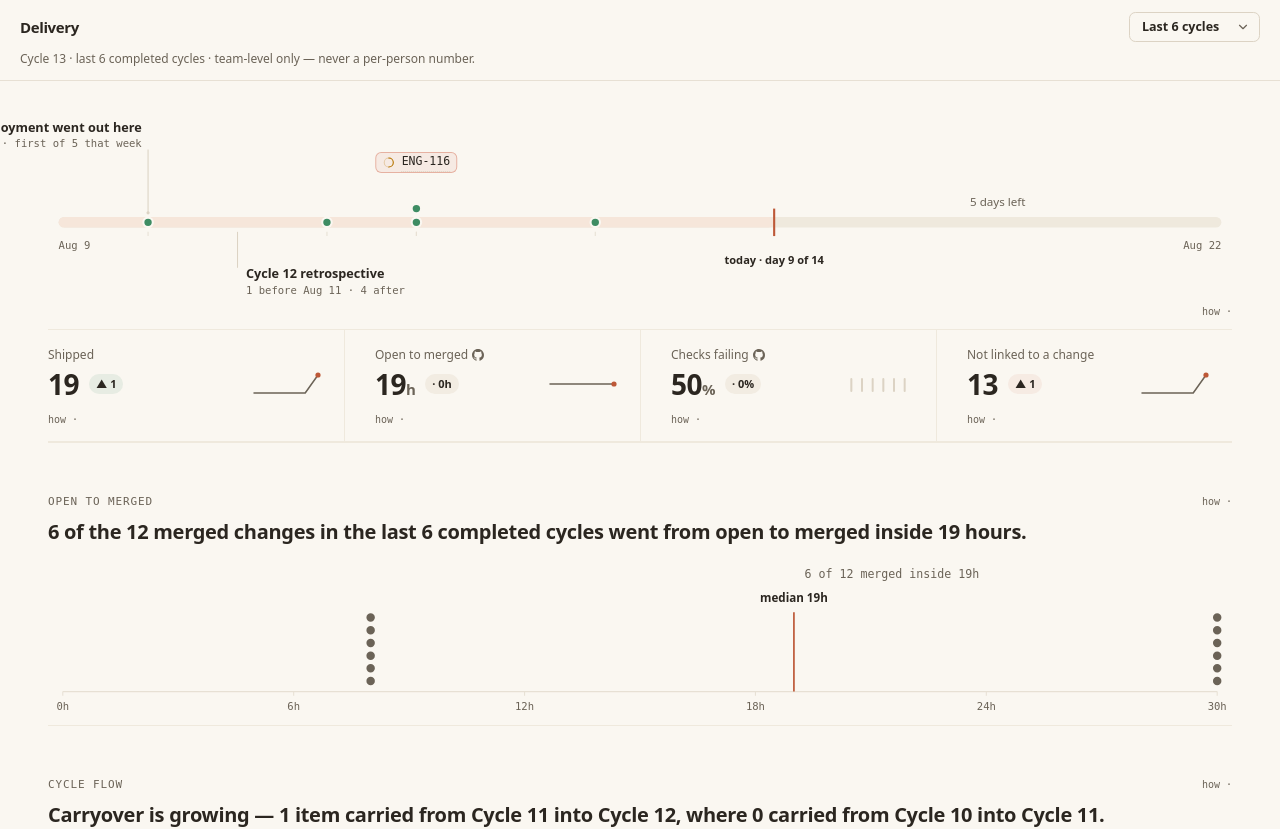
Test: reports the chosen window as a number, and reads nothing new to do it
This screenshot has width=1280, height=829.
Expected: the element with test id "masthead" is shown, left=0, top=0, right=1279, bottom=81
Select "Last 3 cycles" in the dropdown named "Window" at (1194,27), box left=1129, top=12, right=1260, bottom=42
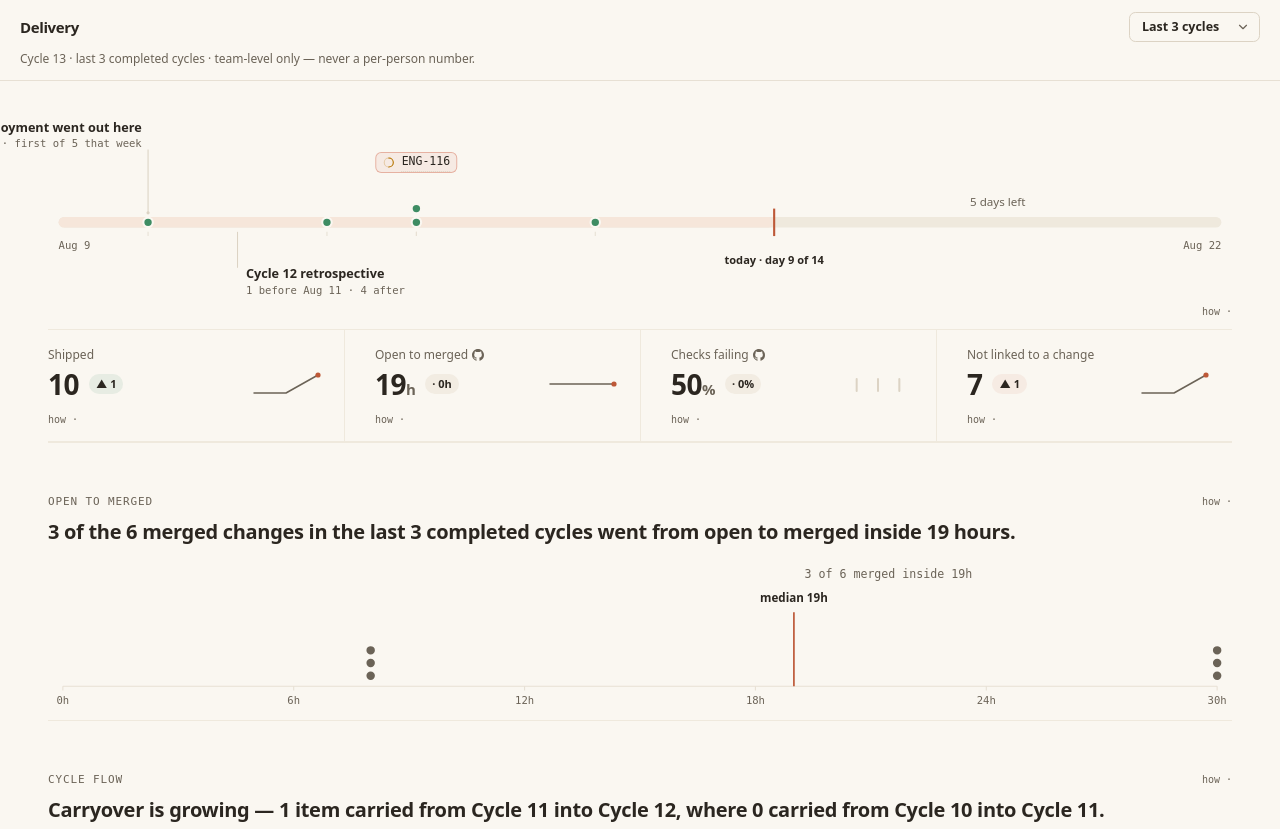
Expected: the text with test id "delivery-window-label" reads "last 3 completed cycles", left=76, top=50, right=205, bottom=67
Select "Last 12 cycles" in the dropdown named "Window" at (1194,27), box left=1129, top=12, right=1260, bottom=42
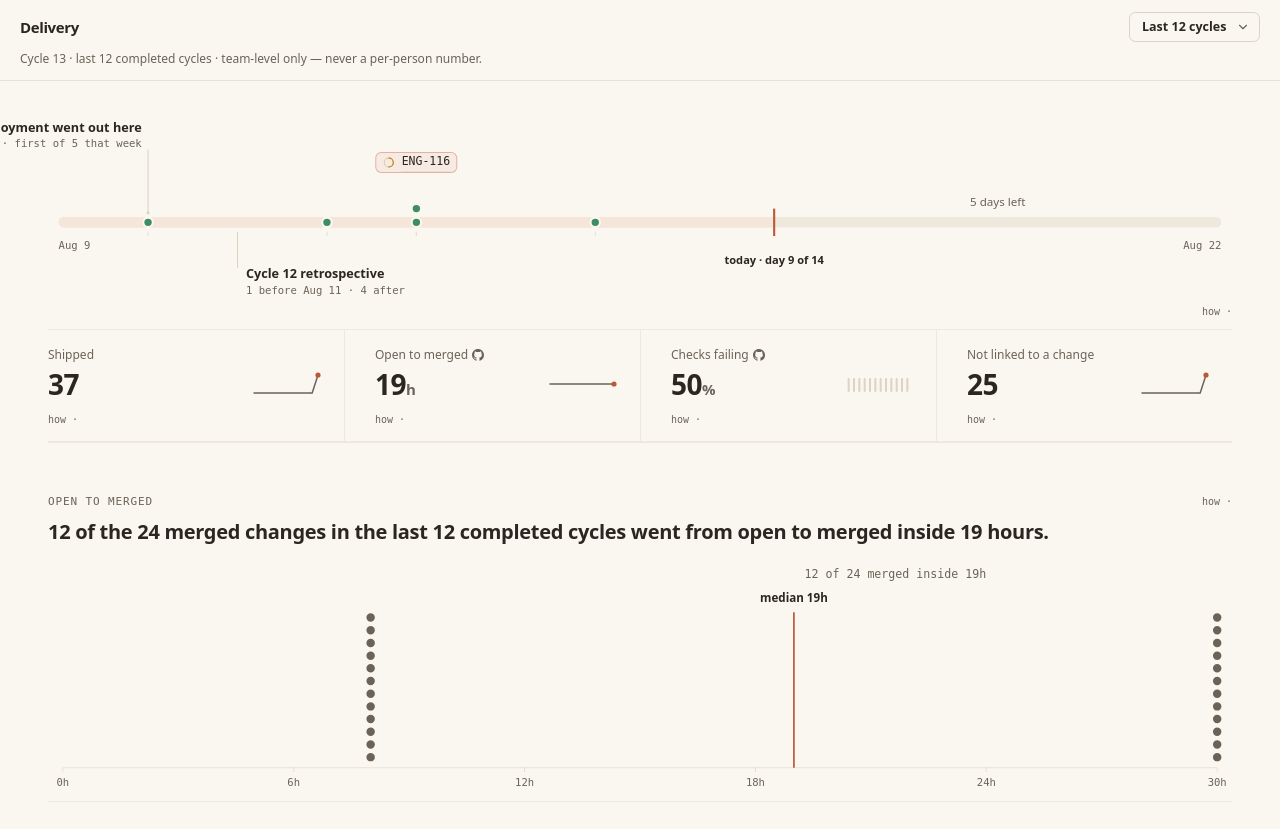
Expected: the text with test id "delivery-window-label" reads "last 12 completed cycles", left=76, top=50, right=212, bottom=67
